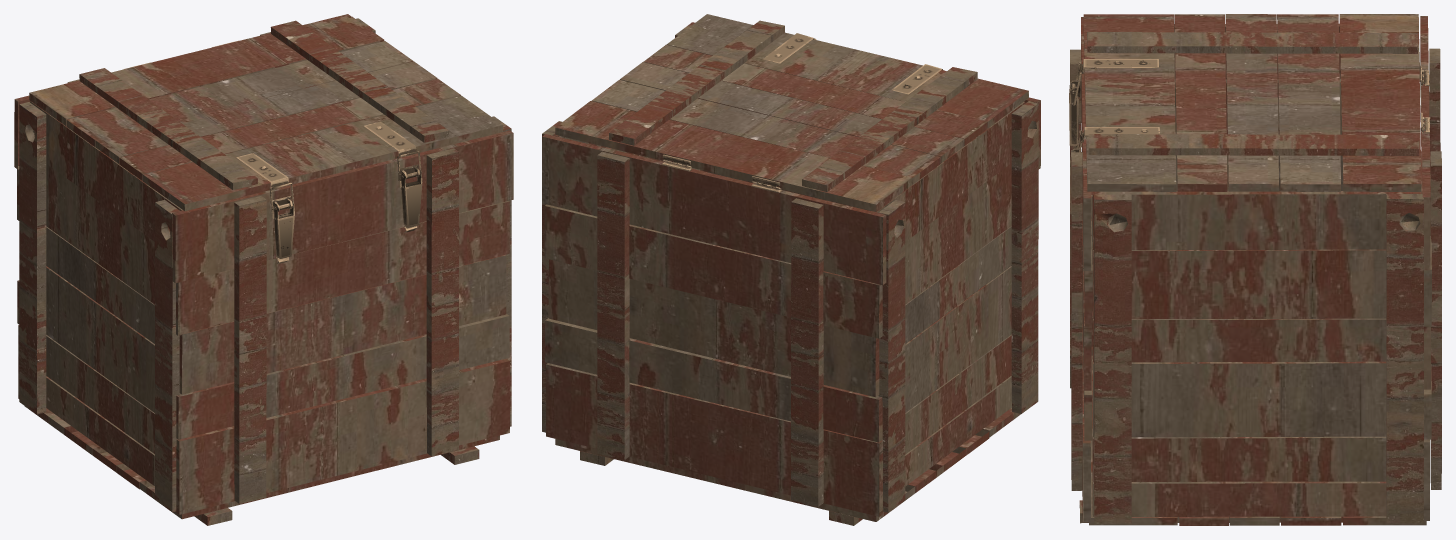
The model's file is Wood_Box_Set.fbx.
3 views of the same model, side by side, from view 1: azimuth 30°, elevation 25°; view 2: azimuth 150°, elevation 25°; view 3: azimuth 270°, elevation 25° (orthographic). The views are drawn at different scales.
Parts seen in each view (by area): view 1: Wood_Box; view 2: Wood_Box; view 3: Wood_Box.
Boxes of the visible parts, bbox=[...] form: Wood_Box: bbox=[14, 14, 513, 525]; Wood_Box: bbox=[542, 14, 1040, 525]; Wood_Box: bbox=[1069, 14, 1441, 525].
Size of the model in its own units: 83.98 by 77.52 by 72.34.
3 materials, 3 textured.
